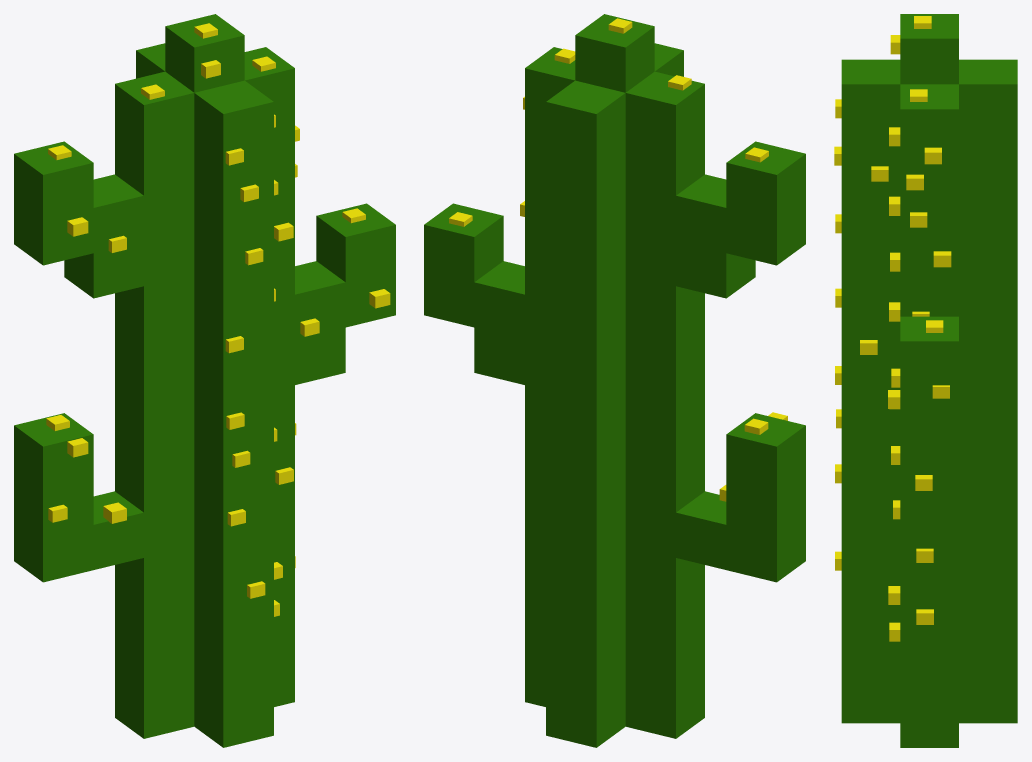
The model's file is cactus_4.fbx.
The picture shows the model from 3 angles, left to right: view 1: azimuth 30°, elevation 25°; view 2: azimuth 150°, elevation 25°; view 3: azimuth 270°, elevation 25°; orthographic projection.
Visible parts, largest first — view 1: Torus.004; view 2: Torus.004; view 3: Torus.004.
Part boxes in pixels (x1,y1,x2,y2): Torus.004: [14, 14, 395, 747]; Torus.004: [424, 14, 805, 747]; Torus.004: [834, 14, 1017, 747].
Size of the model in its own units: 376 by 689 by 166.
